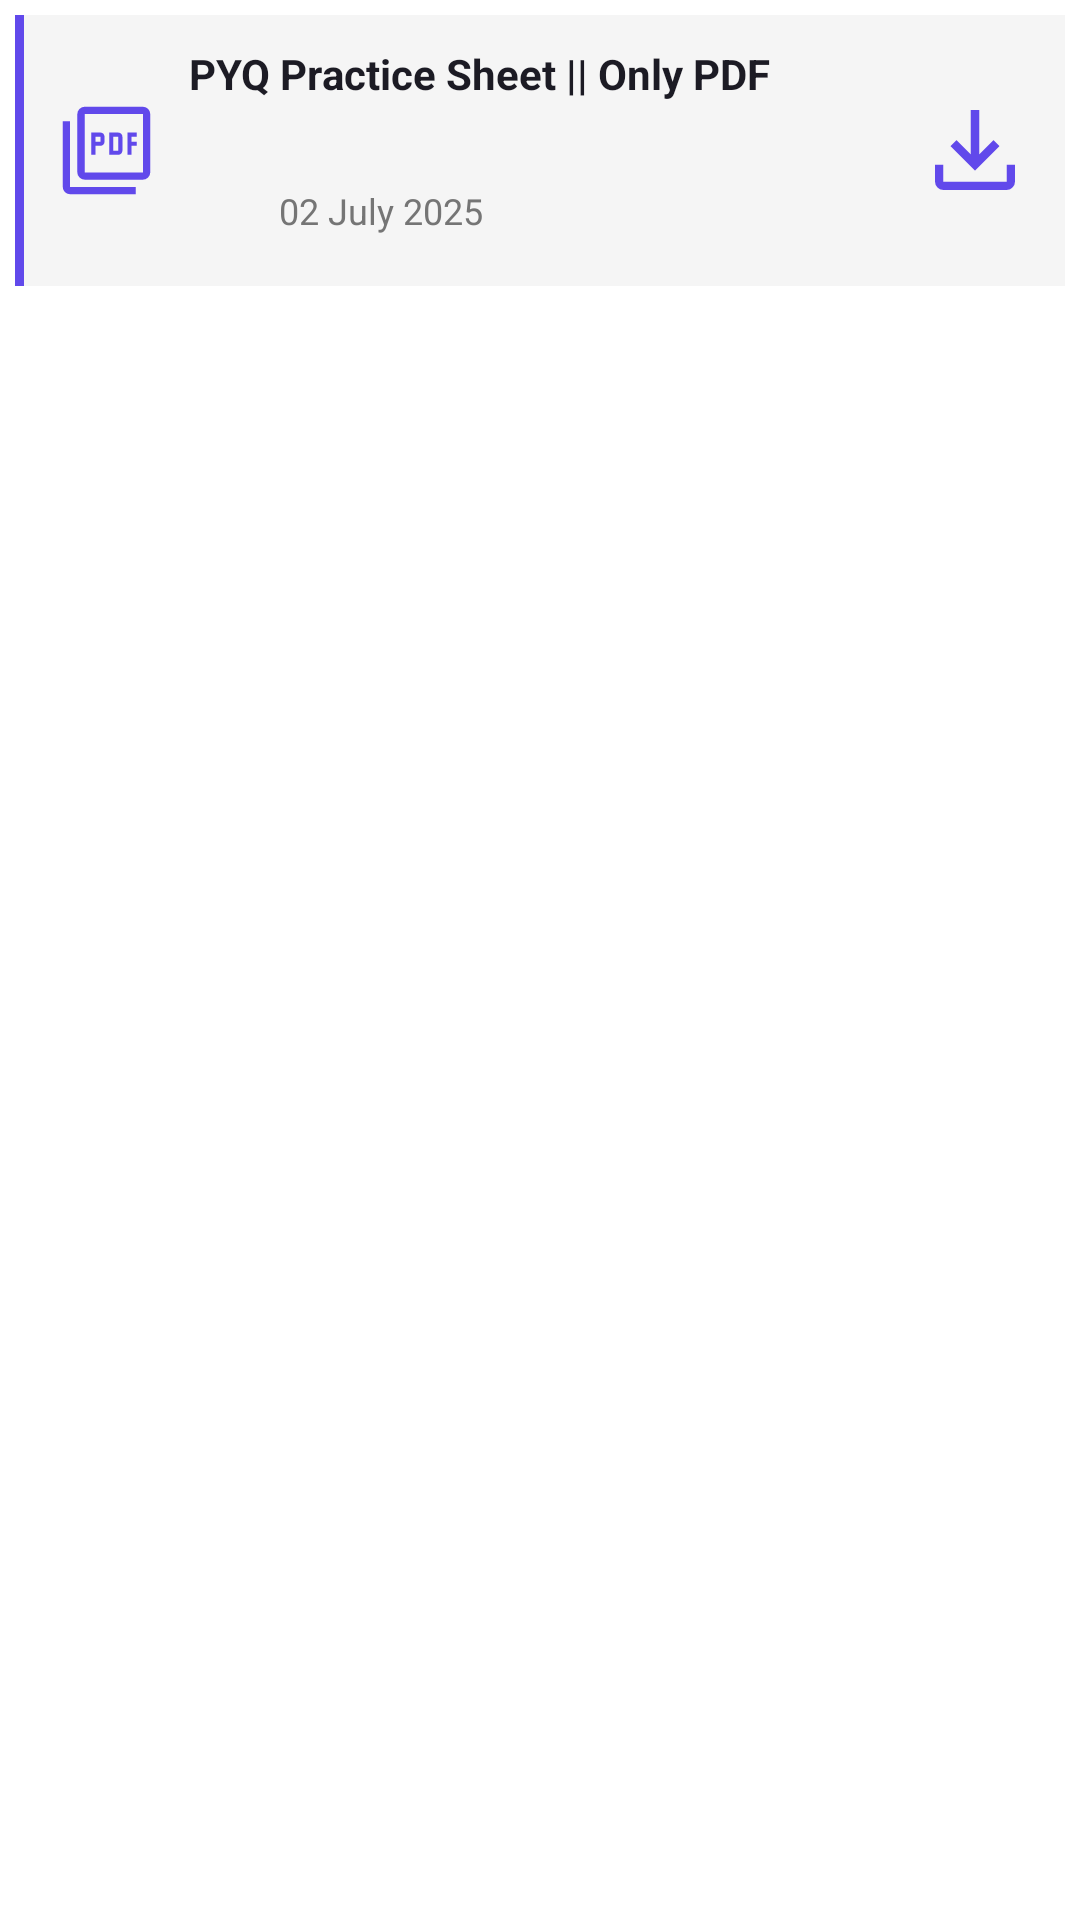

Named icons in this screenshot (1080px×1920px) and their centers, (x=x, y=y):
download: (x=975, y=150)
picture as pdf: (x=106, y=150)
